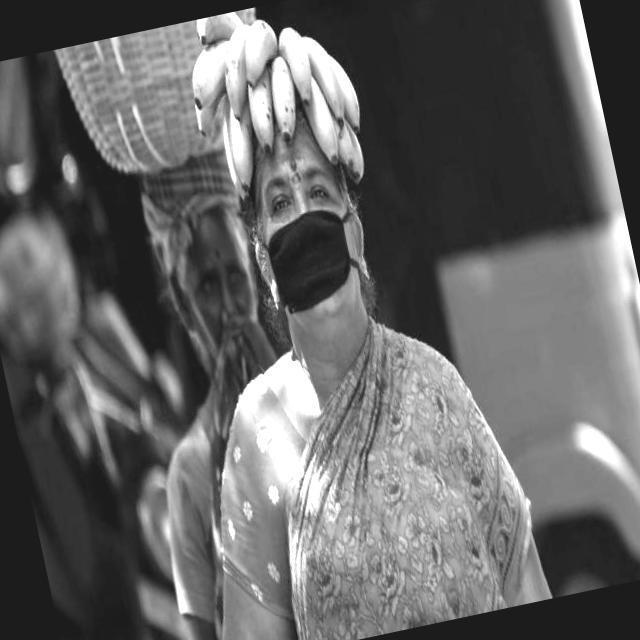mask: (256, 208, 355, 312)
no_gloves: (186, 19, 393, 181)
